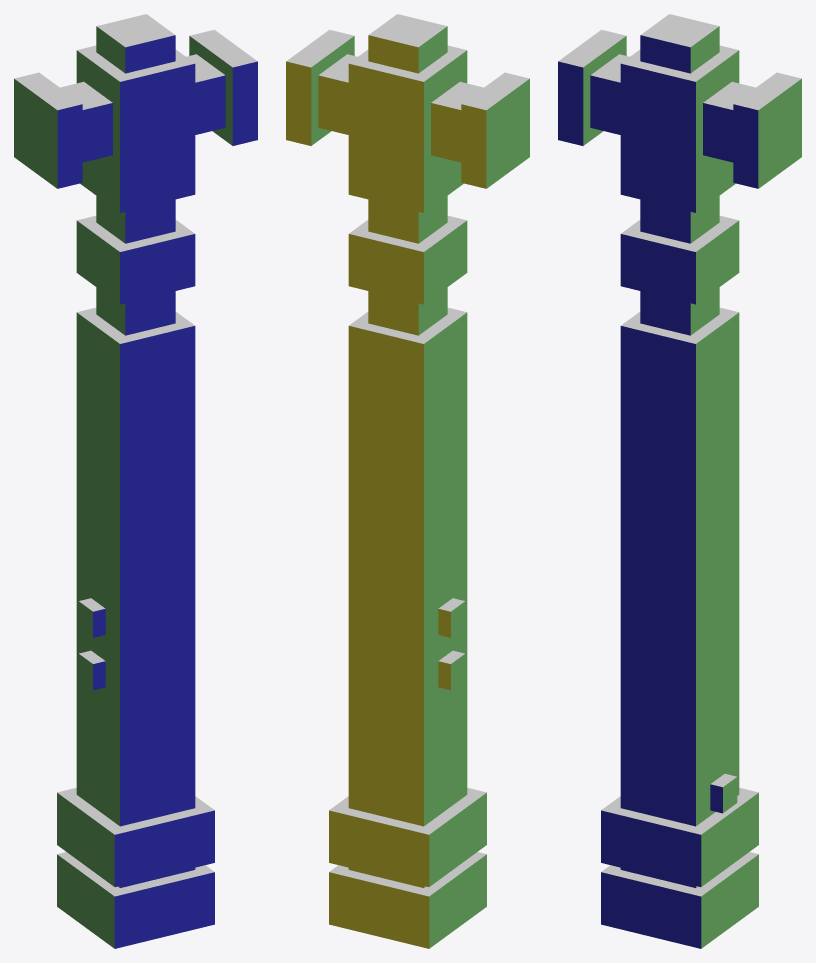
The model's file is malachor.obj.
The picture shows the model from 3 angles, left to right: view 1: azimuth 30°, elevation 25°; view 2: azimuth 150°, elevation 25°; view 3: azimuth 330°, elevation 25°; orthographic projection.
Visible parts, largest first — view 1: body_Cube.002, emitter_Cube, pommel_Cube.003; view 2: body_Cube.002, emitter_Cube, pommel_Cube.003; view 3: body_Cube.002, emitter_Cube, pommel_Cube.003.
Part boxes in pixels (box(x1,y1,x2,y2)): body_Cube.002: box(76, 196, 195, 789); emitter_Cube: box(14, 14, 257, 212); pommel_Cube.003: box(57, 758, 214, 948); body_Cube.002: box(348, 196, 467, 789); emitter_Cube: box(286, 14, 529, 212); pommel_Cube.003: box(329, 758, 486, 948); body_Cube.002: box(620, 196, 739, 789); emitter_Cube: box(558, 14, 801, 212); pommel_Cube.003: box(601, 758, 758, 948).
Bounding box in the file's own units: 0.8 × 3.45 × 0.4.
Materials: 1 (1 with a texture image).
